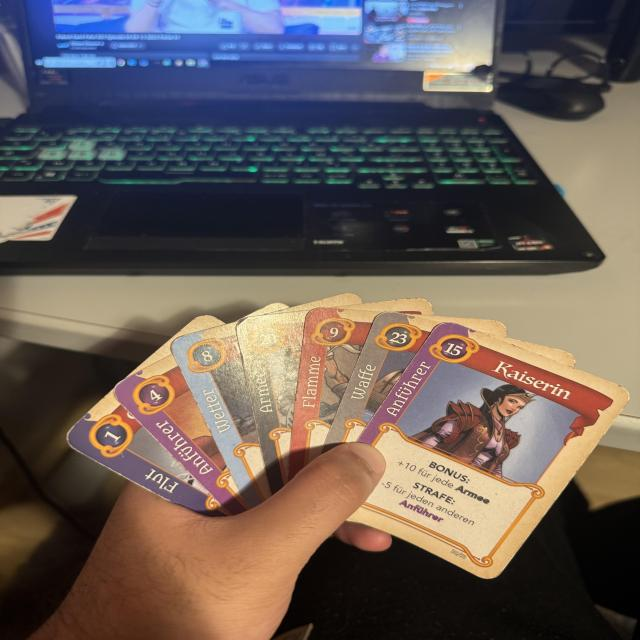Empress: (349, 319, 635, 584)
Forge: (289, 306, 377, 478)
Fountain Of Life: (61, 392, 232, 516)
Knights: (238, 310, 308, 494)
Rainstorm: (168, 323, 272, 508)
Warlord: (112, 355, 249, 516)
Warship: (322, 310, 439, 452)
